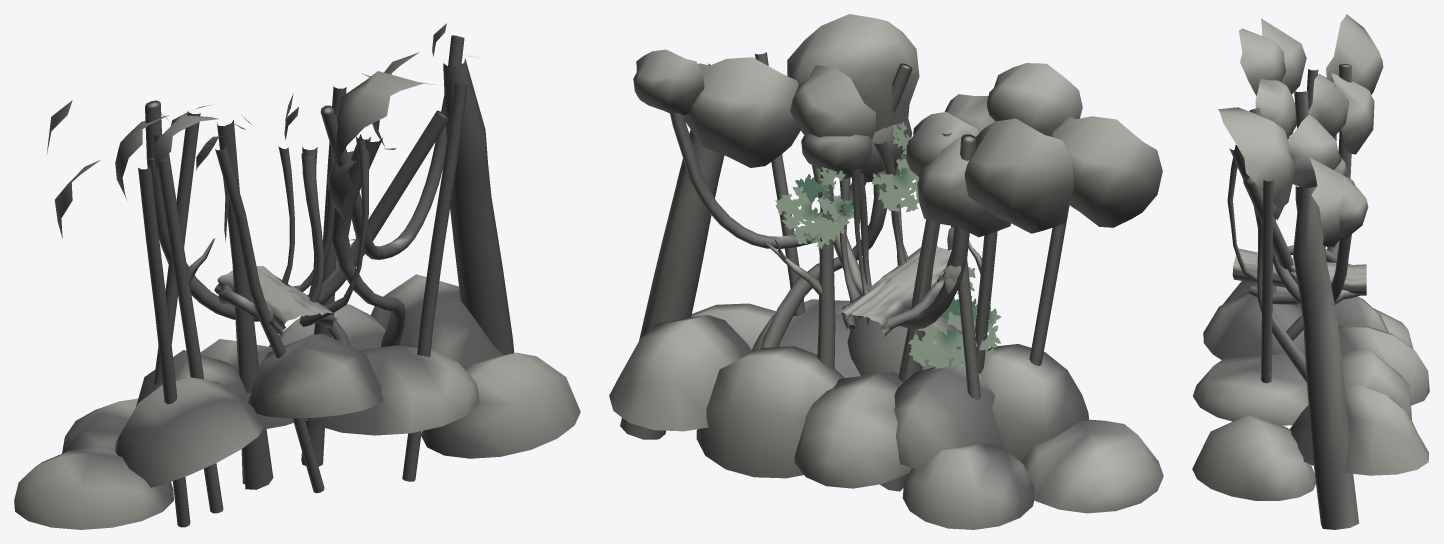
File: Jungle_Canopy_Curve_Right_B.glb
3 renders of one model, left to right at view 1: azimuth 30°, elevation 25°; view 2: azimuth 150°, elevation 25°; view 3: azimuth 270°, elevation 25°, orthographic. The views are drawn at different scales.
Parts seen in each view (by area): view 1: Jungle_Canopy_Curve_Right_B; view 2: Jungle_Canopy_Curve_Right_B; view 3: Jungle_Canopy_Curve_Right_B.
Boxes of the visible parts, x1,y1,x2,y2 form: Jungle_Canopy_Curve_Right_B: (14, 23, 580, 529); Jungle_Canopy_Curve_Right_B: (609, 14, 1163, 529); Jungle_Canopy_Curve_Right_B: (1192, 14, 1429, 529).
Size of the model in its own units: 38.47 by 29.79 by 18.1.
